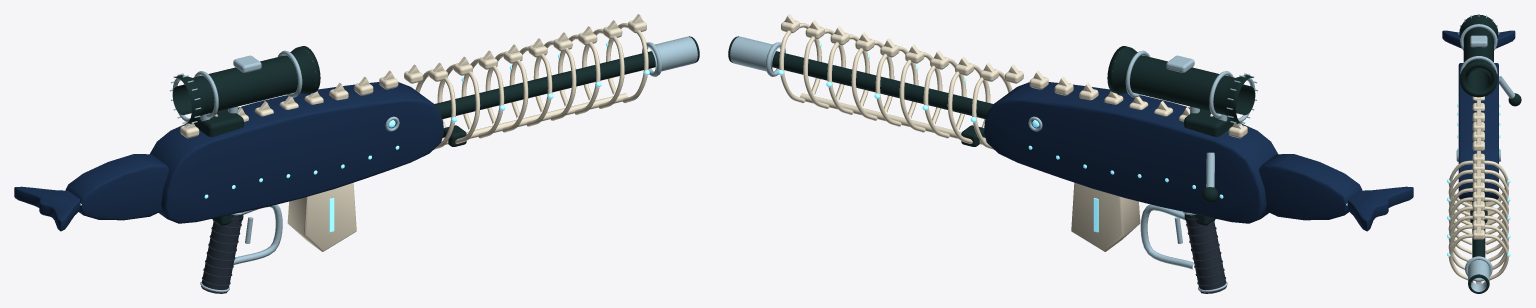
Rendered from abyssal-requiem.glb.
The picture shows the model from 3 angles, left to right: view 1: azimuth 30°, elevation 25°; view 2: azimuth 150°, elevation 25°; view 3: azimuth 270°, elevation 25°; orthographic projection. The views are drawn at different scales.
Parts seen in each view (by area): view 1: 05_Longnight_Sniper__body_Sculpt_coat, 05_Longnight_Sniper__body_Sculpt_pearl, 05_Longnight_Sniper__stock_Sculpt_coat, 05_Longnight_Sniper__optic_Sculpt_frame, 05_Longnight_Sniper__body_Sculpt_frame, 05_Longnight_Sniper__magazine_Sculpt_pearl, 05_Longnight_Sniper__body_Sculpt_metal, 05_Longnight_Sniper__body_Sculpt_grip, 05_Longnight_Sniper__optic_Sculpt_metal; view 2: 05_Longnight_Sniper__body_Sculpt_coat, 05_Longnight_Sniper__body_Sculpt_pearl, 05_Longnight_Sniper__stock_Sculpt_coat, 05_Longnight_Sniper__optic_Sculpt_frame, 05_Longnight_Sniper__body_Sculpt_frame, 05_Longnight_Sniper__magazine_Sculpt_pearl, 05_Longnight_Sniper__body_Sculpt_metal, 05_Longnight_Sniper__body_Sculpt_grip, 05_Longnight_Sniper__optic_Sculpt_metal; view 3: 05_Longnight_Sniper__body_Sculpt_pearl, 05_Longnight_Sniper__body_Sculpt_coat, 05_Longnight_Sniper__optic_Sculpt_frame, 05_Longnight_Sniper__body_Sculpt_metal, 05_Longnight_Sniper__optic_Sculpt_metal, 05_Longnight_Sniper__body_Sculpt_frame, 05_Longnight_Sniper__stock_Sculpt_coat, 05_Longnight_Sniper__body_Sculpt_glow, 05_Longnight_Sniper__bolt_Sculpt_metal, 05_Longnight_Sniper__bolt_Sculpt_frame, 05_Longnight_Sniper__magazine_Sculpt_pearl.
Part boxes in pixels (x1,y1,x2,y2): 05_Longnight_Sniper__body_Sculpt_coat: (150,82,443,223); 05_Longnight_Sniper__body_Sculpt_pearl: (180,14,648,149); 05_Longnight_Sniper__stock_Sculpt_coat: (14,154,168,231); 05_Longnight_Sniper__optic_Sculpt_frame: (172,46,320,136); 05_Longnight_Sniper__body_Sculpt_frame: (212,36,699,225); 05_Longnight_Sniper__magazine_Sculpt_pearl: (287,182,356,251); 05_Longnight_Sniper__body_Sculpt_metal: (200,36,697,292); 05_Longnight_Sniper__body_Sculpt_grip: (201,215,241,293); 05_Longnight_Sniper__optic_Sculpt_metal: (170,50,315,125); 05_Longnight_Sniper__body_Sculpt_coat: (984,82,1277,223); 05_Longnight_Sniper__body_Sculpt_pearl: (779,14,1247,149); 05_Longnight_Sniper__stock_Sculpt_coat: (1259,154,1413,231); 05_Longnight_Sniper__optic_Sculpt_frame: (1107,46,1255,136); 05_Longnight_Sniper__body_Sculpt_frame: (728,36,1215,225); 05_Longnight_Sniper__magazine_Sculpt_pearl: (1071,182,1140,251); 05_Longnight_Sniper__body_Sculpt_metal: (730,36,1227,292); 05_Longnight_Sniper__body_Sculpt_grip: (1186,215,1226,293); 05_Longnight_Sniper__optic_Sculpt_metal: (1112,50,1257,125); 05_Longnight_Sniper__body_Sculpt_pearl: (1448,96,1508,284); 05_Longnight_Sniper__body_Sculpt_coat: (1458,63,1498,201); 05_Longnight_Sniper__optic_Sculpt_frame: (1459,14,1498,97); 05_Longnight_Sniper__body_Sculpt_metal: (1456,149,1500,291); 05_Longnight_Sniper__optic_Sculpt_metal: (1458,14,1499,74); 05_Longnight_Sniper__body_Sculpt_frame: (1468,182,1489,293); 05_Longnight_Sniper__stock_Sculpt_coat: (1442,30,1515,48); 05_Longnight_Sniper__body_Sculpt_glow: (1447,104,1510,256); 05_Longnight_Sniper__bolt_Sculpt_metal: (1499,76,1514,98); 05_Longnight_Sniper__bolt_Sculpt_frame: (1508,93,1521,106); 05_Longnight_Sniper__magazine_Sculpt_pearl: (1465,201,1492,224).
Bounding box in the file's own units: 4.09 × 1.33 × 0.5466.
